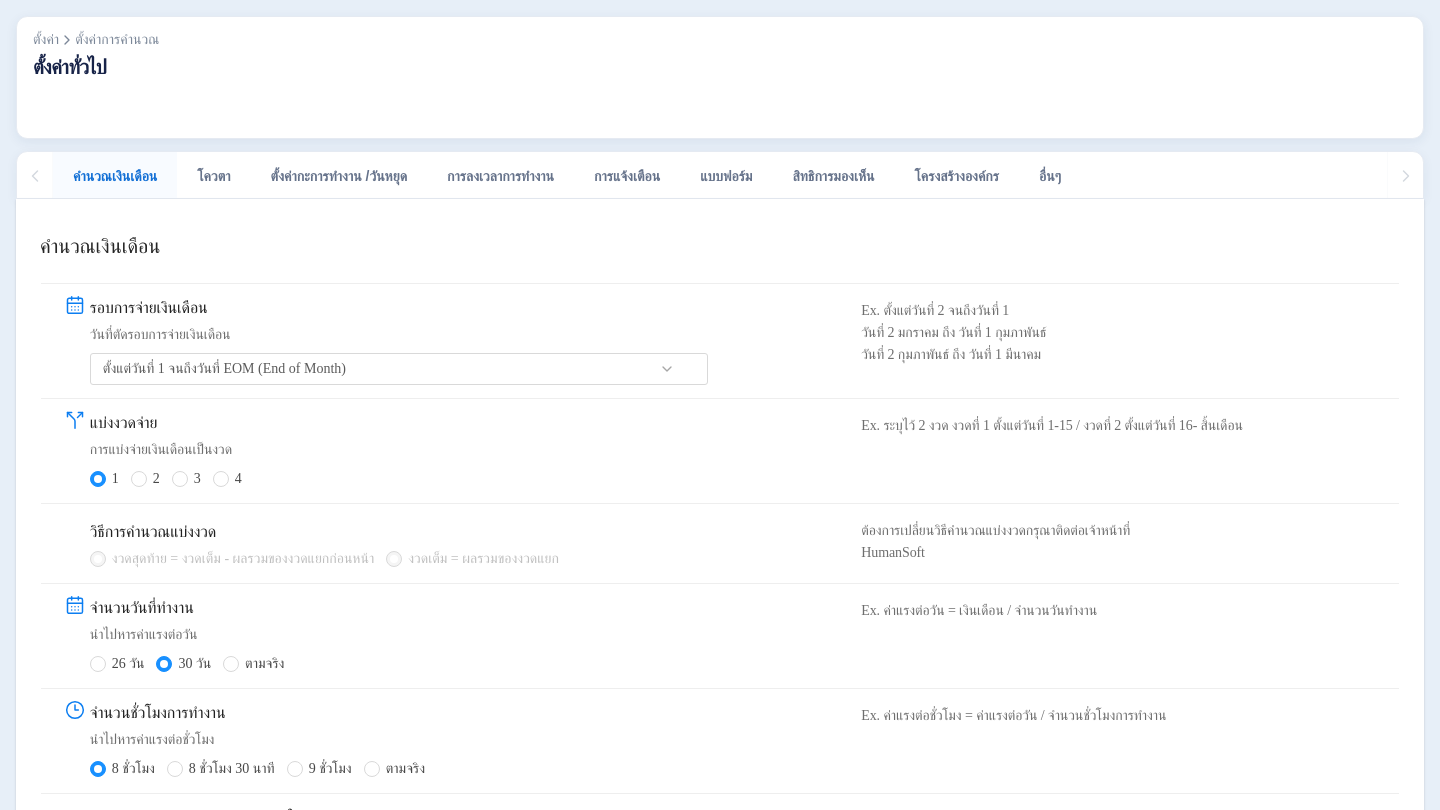
Scenario: general settings payroll cutoff dropdown › updates the selected cutoff and closes the list after choosing another option
Click the button "ตั้งแต่วันที่ 1 จนถึงวันที่ EOM (End of Month)": click(224, 368) [90, 353, 708, 385]
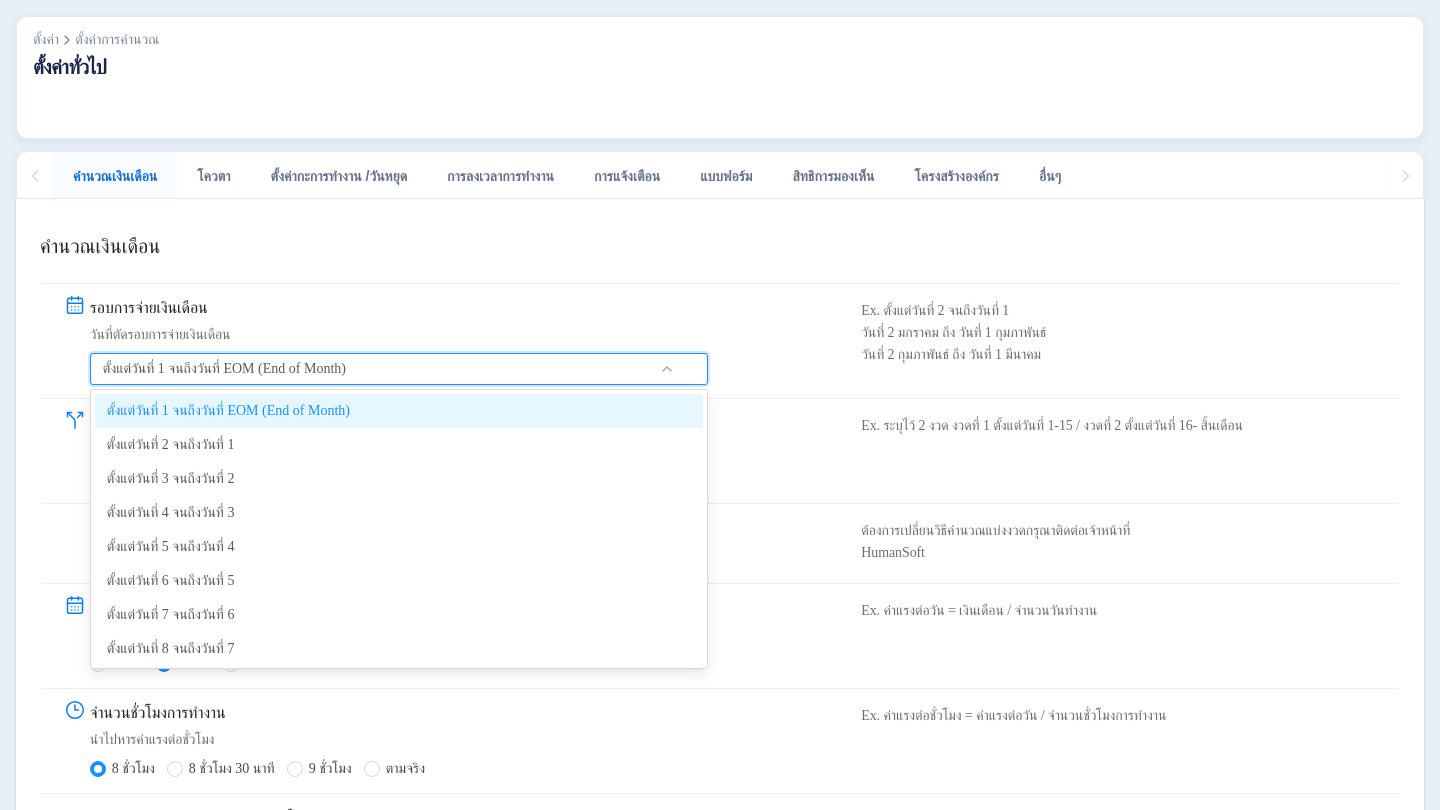
Click the option "ตั้งแต่วันที่ 8 จนถึงวันที่ 7": click(171, 648) [95, 632, 703, 666]
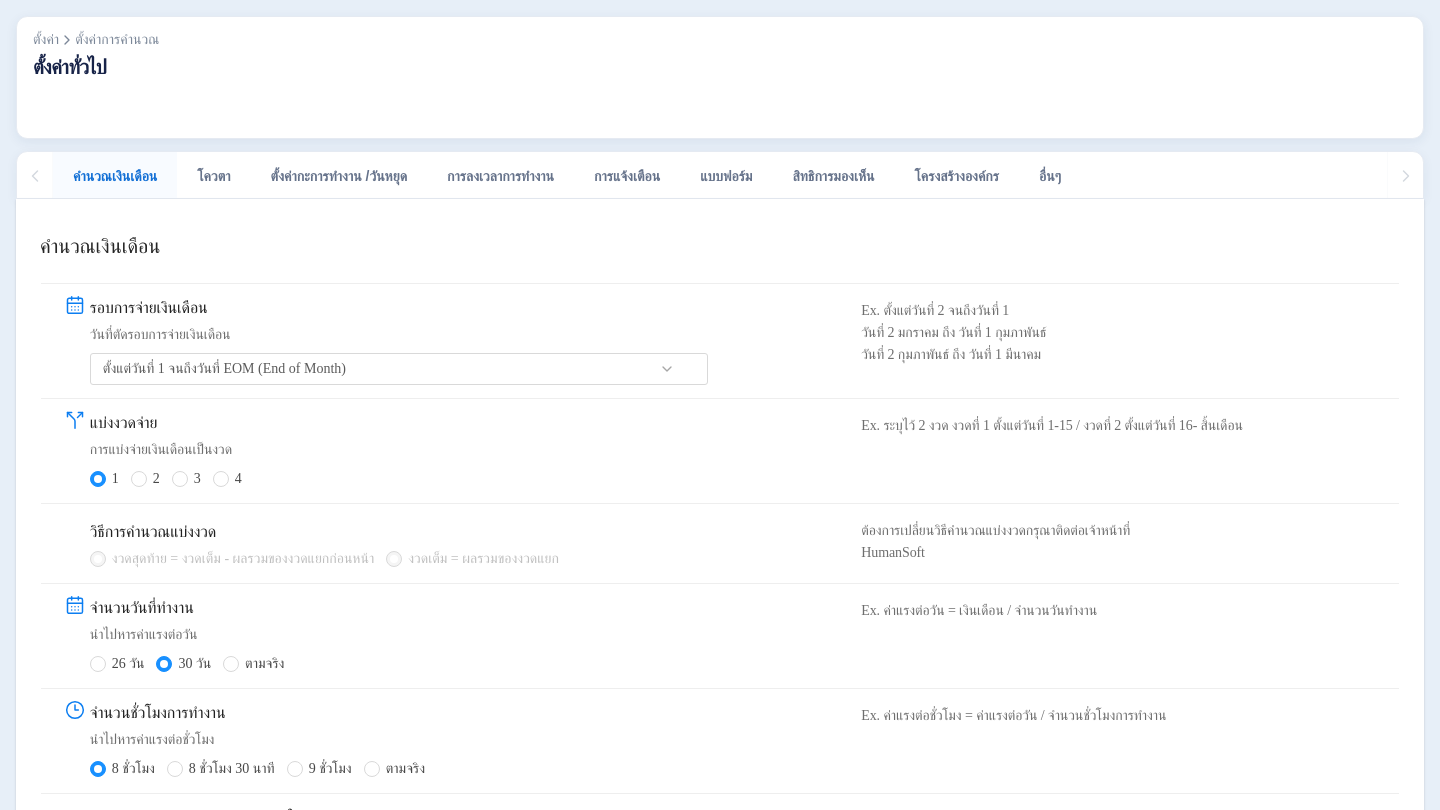
Expected: the button named "ตั้งแต่วันที่ 8 จนถึงวันที่ 7" is shown, [90, 353, 708, 385]
Expected: the list is gone
